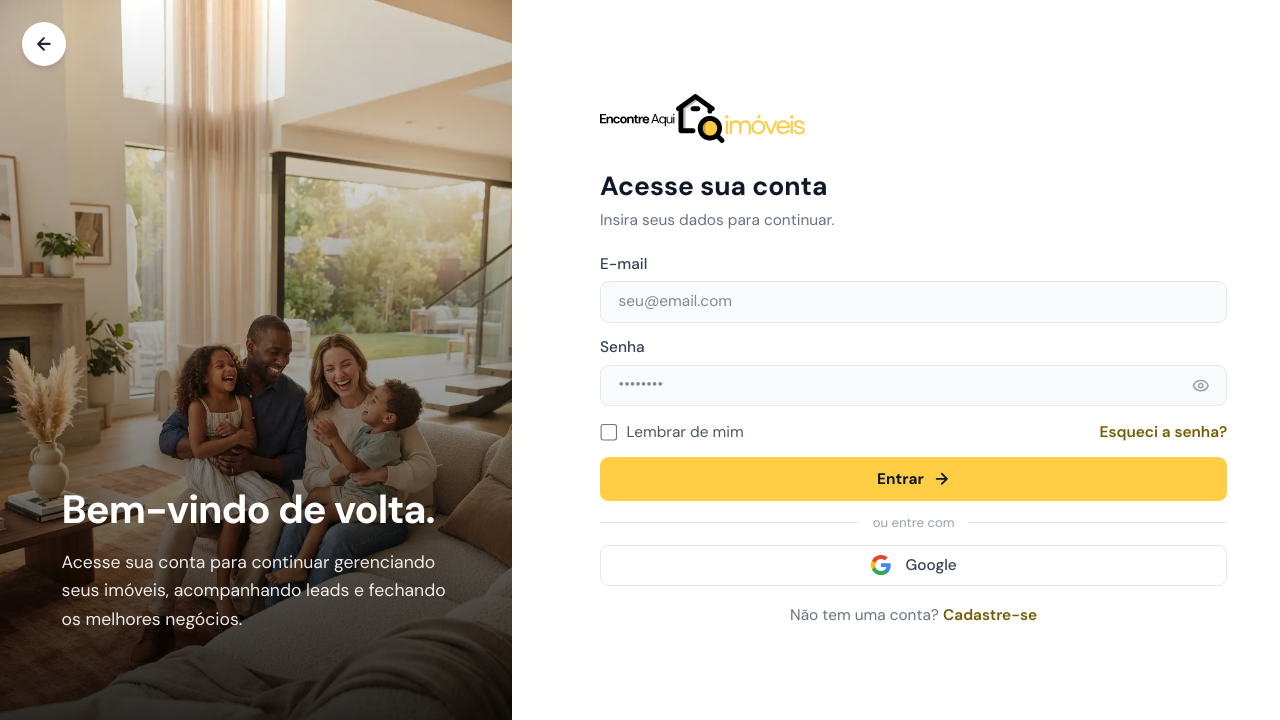
login page › mantém erro genérico quando backend não informa informação de perfil no 401
Type "unknown@example.com" into the field labelled "E-mail".
click(914, 302); type("unknown@example.com")  # box 600,281 -> 1227,323
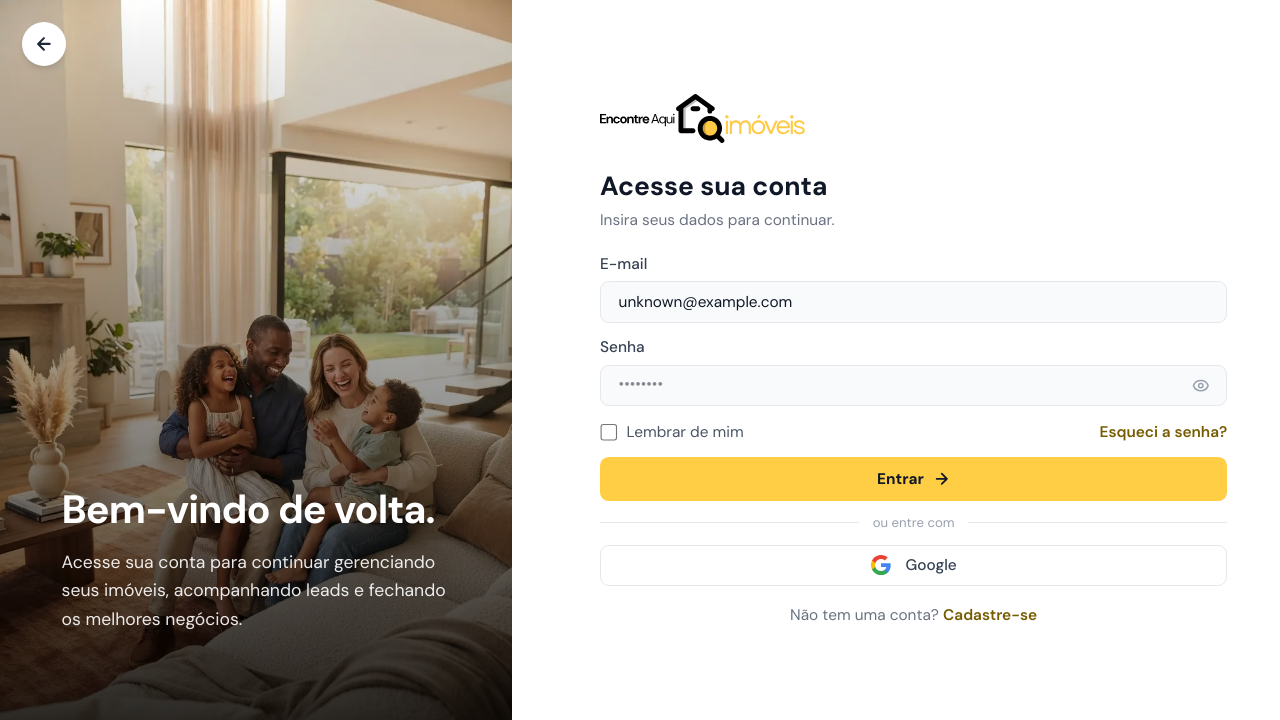
Type "123456" into the password field labelled "Senha".
click(914, 385); type("123456")  # box 600,364 -> 1227,406
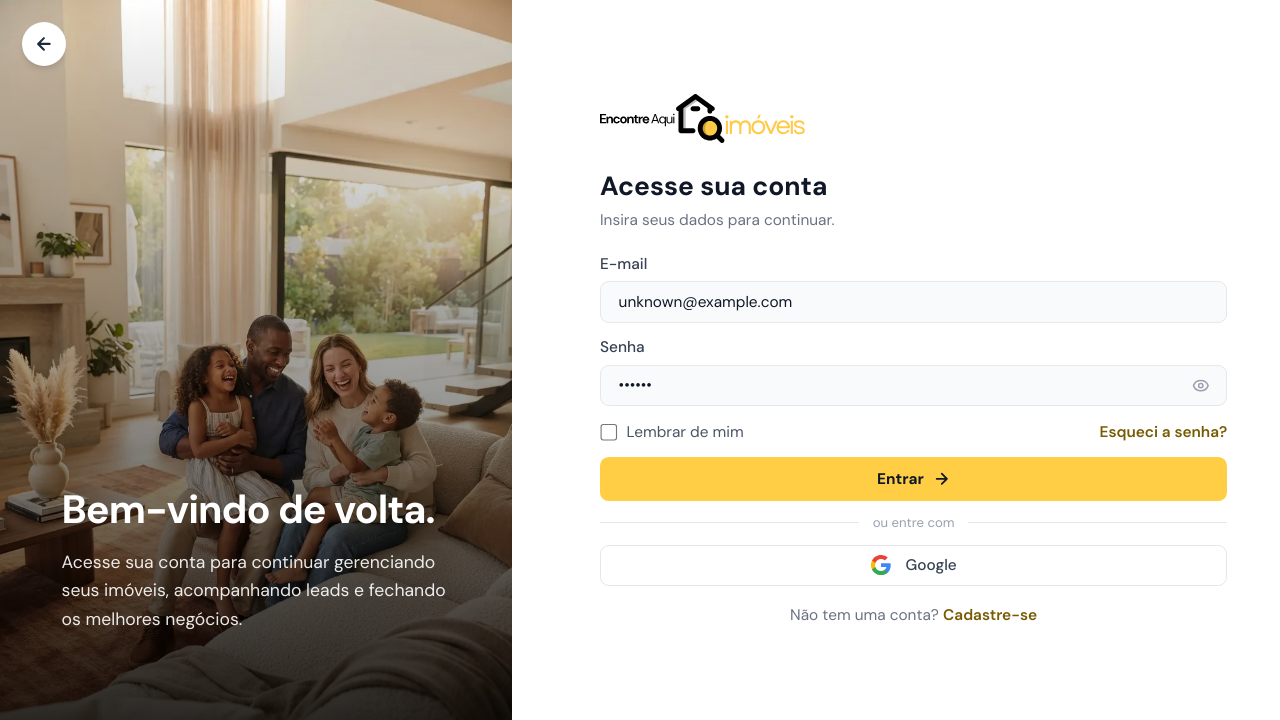
Click the button "Entrar".
click(914, 479)  # box 600,457 -> 1227,501
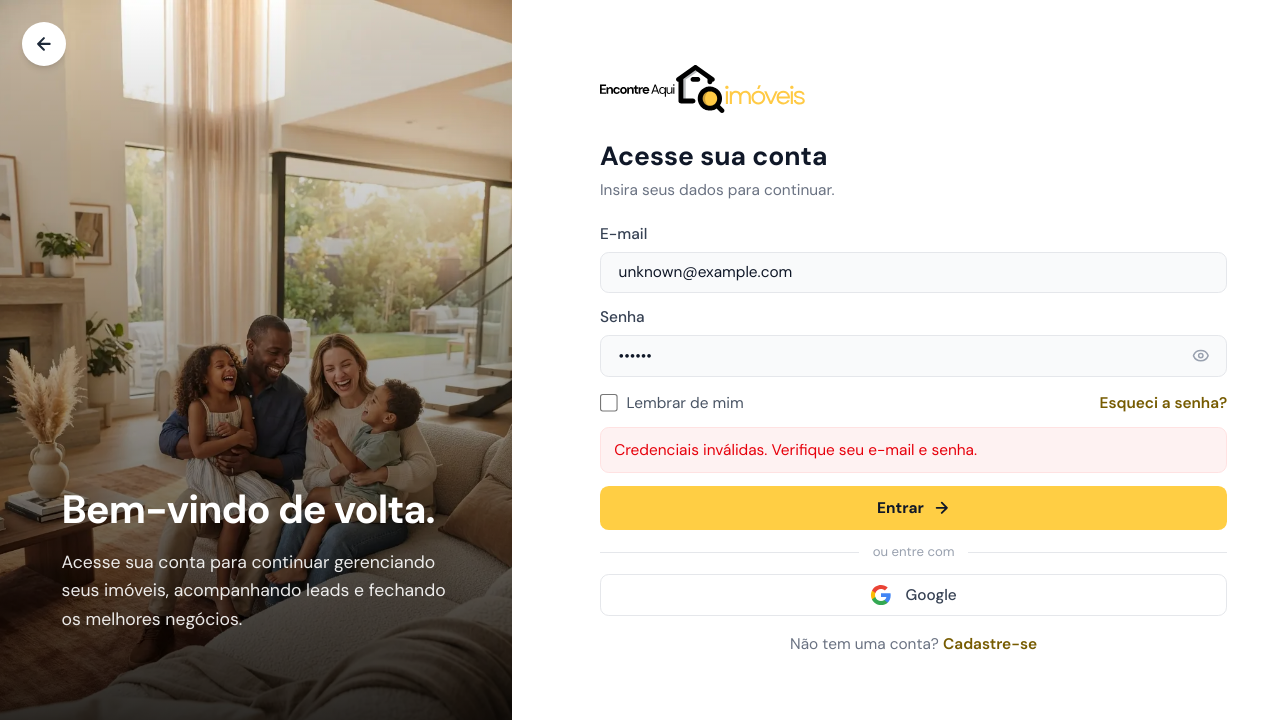
Expected: the message reads "Credenciais inválidas. Verifique seu e-mail e senha.", 614,440 -> 977,460
